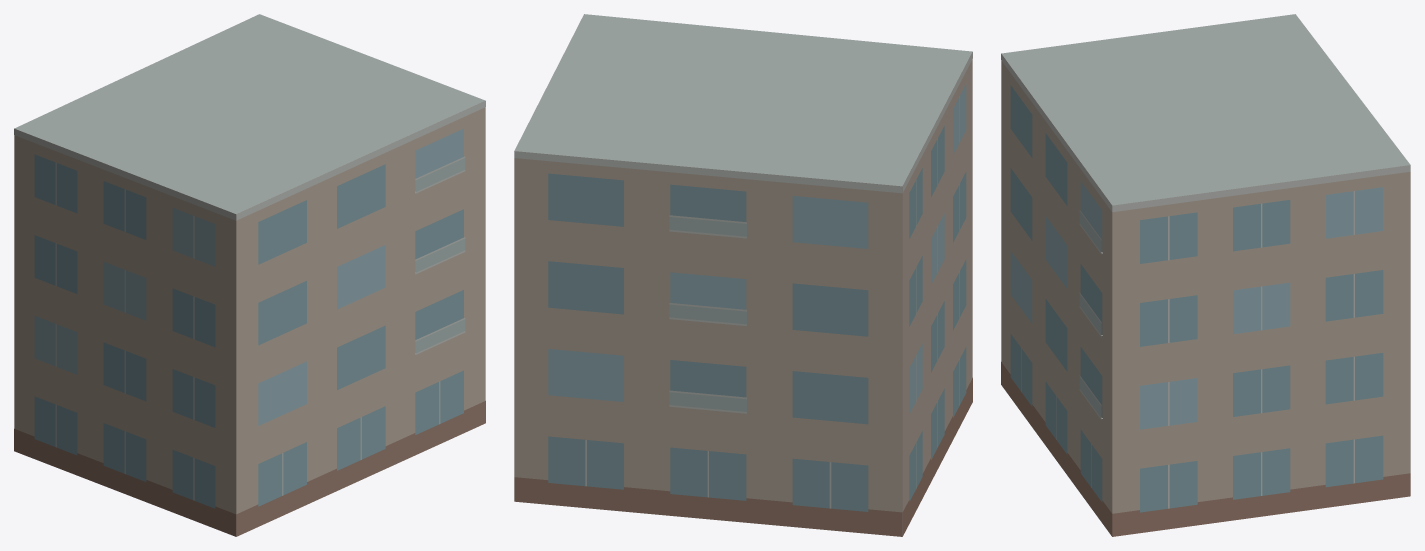
Rendered from survey-upis-32909589.glb.
3 views of the same model, side by side, from view 1: azimuth 30°, elevation 25°; view 2: azimuth 150°, elevation 25°; view 3: azimuth 270°, elevation 25° (orthographic). The views are drawn at different scales.
Visible parts, largest first — view 1: survey-upis-32909589.tmp; view 2: survey-upis-32909589.tmp; view 3: survey-upis-32909589.tmp.
Part boxes in pixels (bbox=[...]): survey-upis-32909589.tmp: bbox=[14, 14, 485, 536]; survey-upis-32909589.tmp: bbox=[514, 14, 972, 536]; survey-upis-32909589.tmp: bbox=[1001, 14, 1410, 536].
Size of the model in its own units: 15.14 by 12.2 by 13.68.
